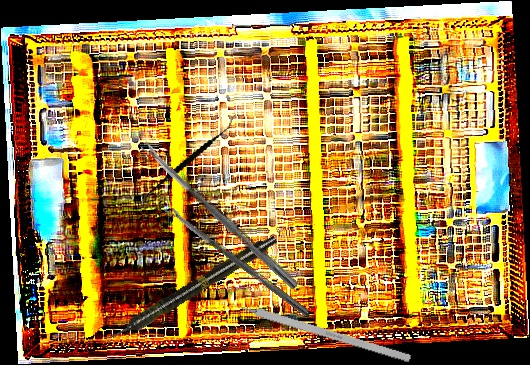Handpiece: (105, 231, 280, 346)
Hook Surgical: (218, 295, 412, 364)
Spatula Surgical: (140, 99, 235, 226)
Surgical Spoon: (140, 140, 300, 290), (164, 203, 313, 319)
